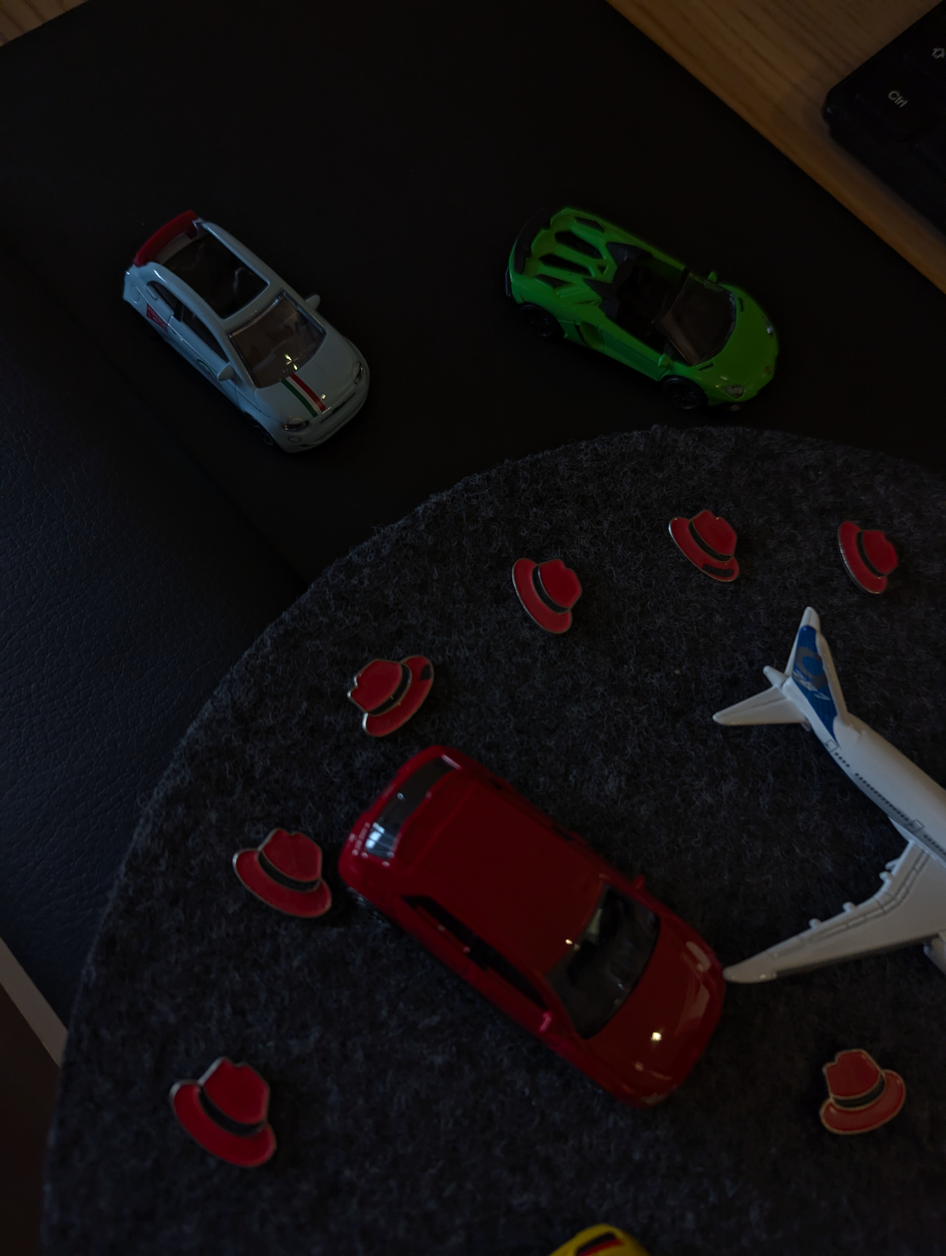Airplane: (650, 580, 946, 1021)
Car: (341, 723, 738, 1133), (80, 170, 378, 452), (489, 180, 805, 421)
Red-Hat: (149, 1049, 324, 1174), (203, 805, 339, 931), (796, 1029, 922, 1154), (331, 626, 455, 749), (490, 538, 604, 657), (667, 495, 761, 606), (819, 501, 900, 603)
Scratch: (693, 552, 756, 591), (400, 656, 442, 685)
